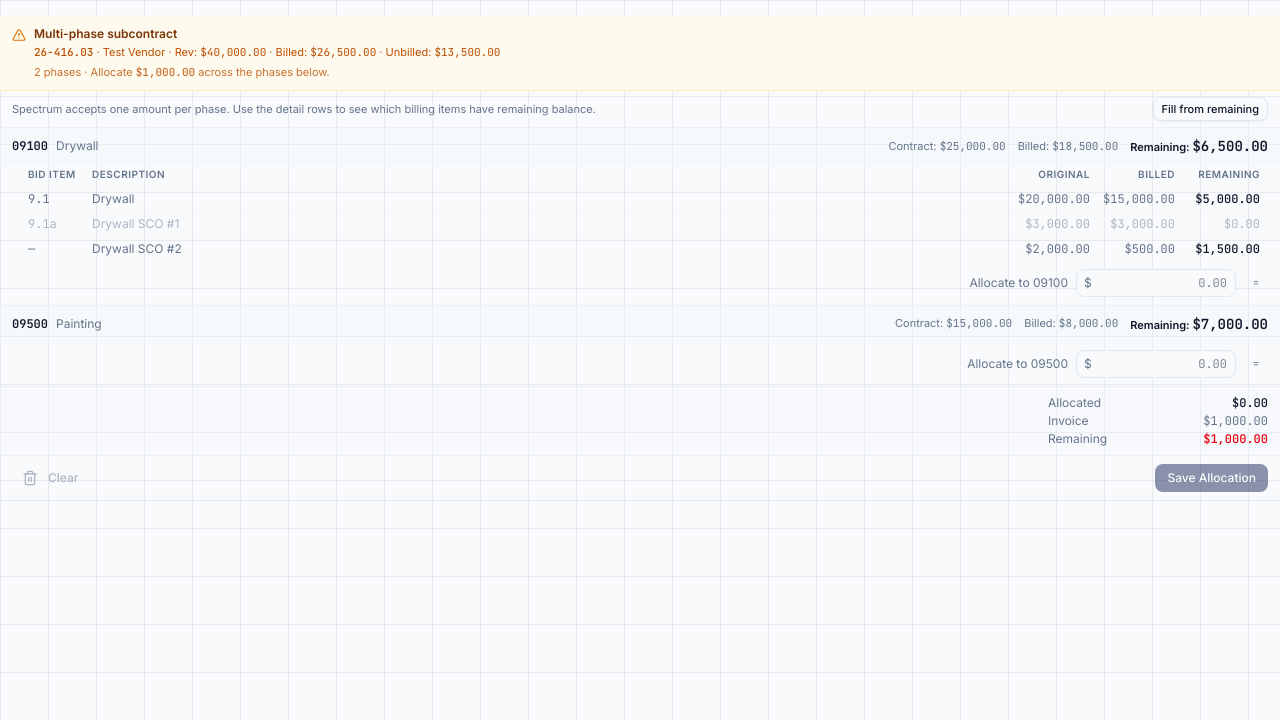
Test: MultiPhaseAllocationPanel › CO-corrected math + warning tiers › scenario 6: Save stays disabled until allocations sum to the invoice total
Type "600.00" into the field named "Allocate to 09100".
click(1156, 283); type("600.00")  # box [1076, 269, 1236, 297]
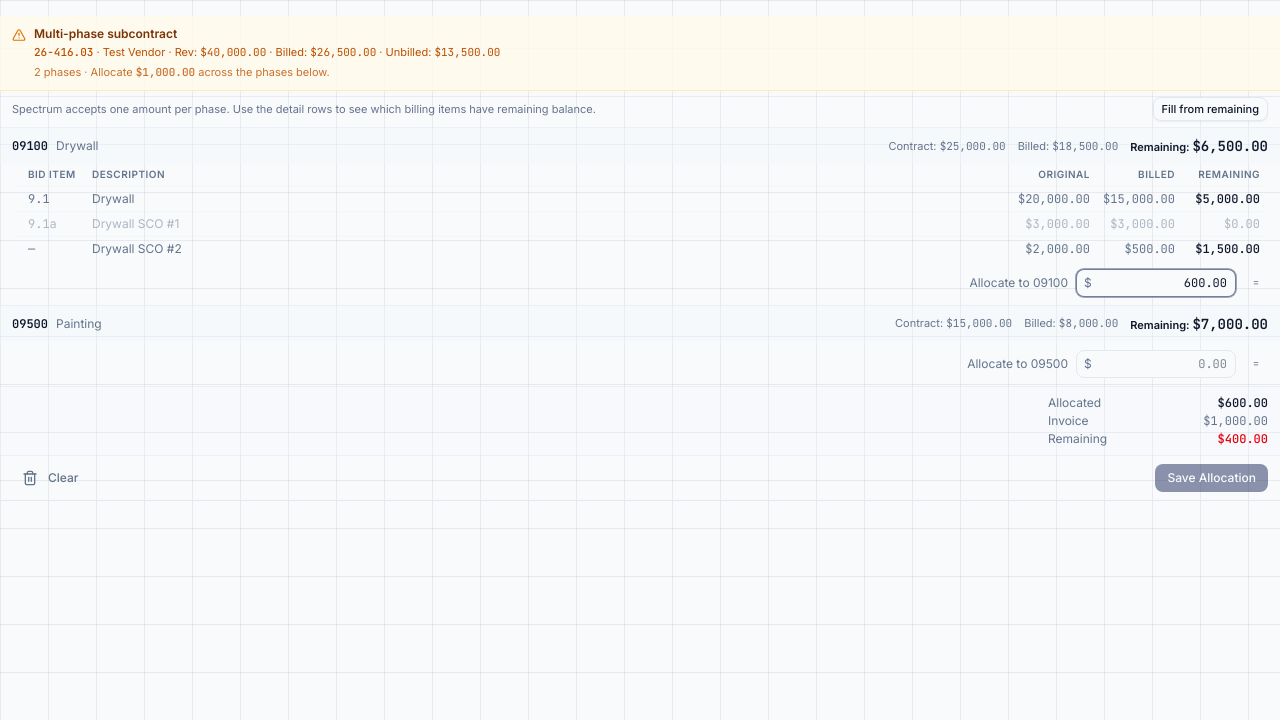
Check: the button "Save Allocation" is disabled, box [1156, 464, 1268, 492]
Type "400.00" into the field named "Allocate to 09500".
click(1156, 364); type("400.00")  # box [1076, 350, 1236, 378]
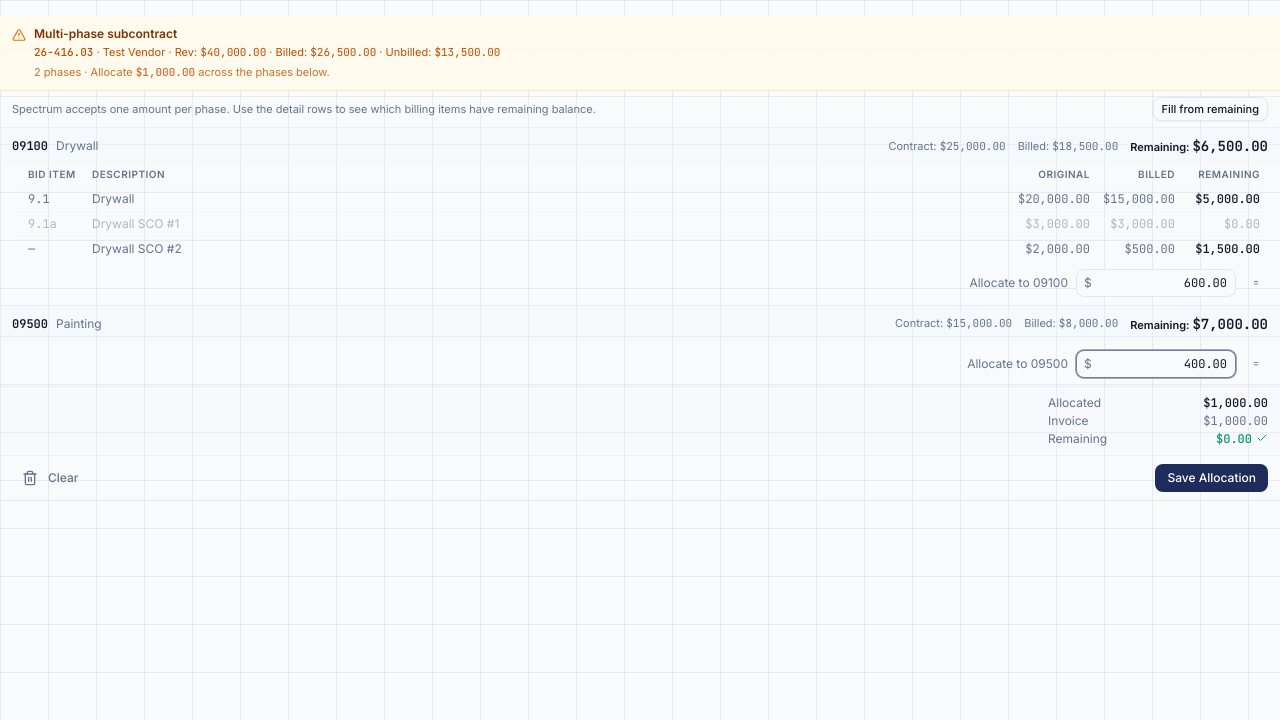
Check: the button "Save Allocation" is enabled, box [1156, 464, 1268, 492]
